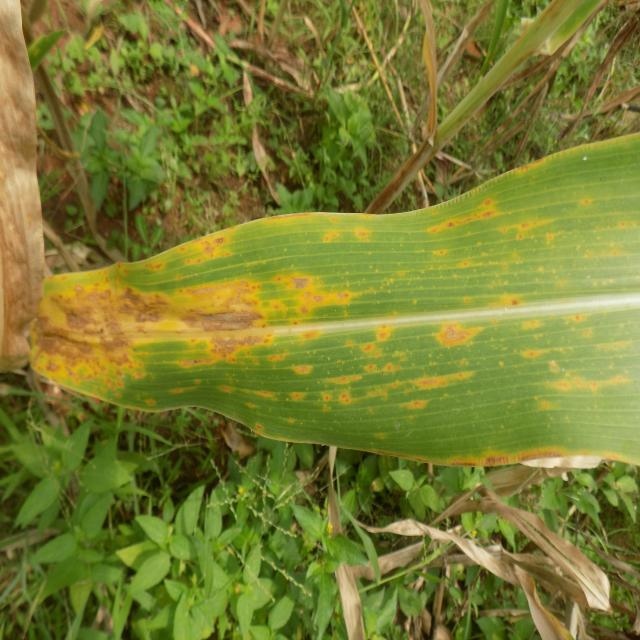millet_rust: (29, 133, 640, 466)
